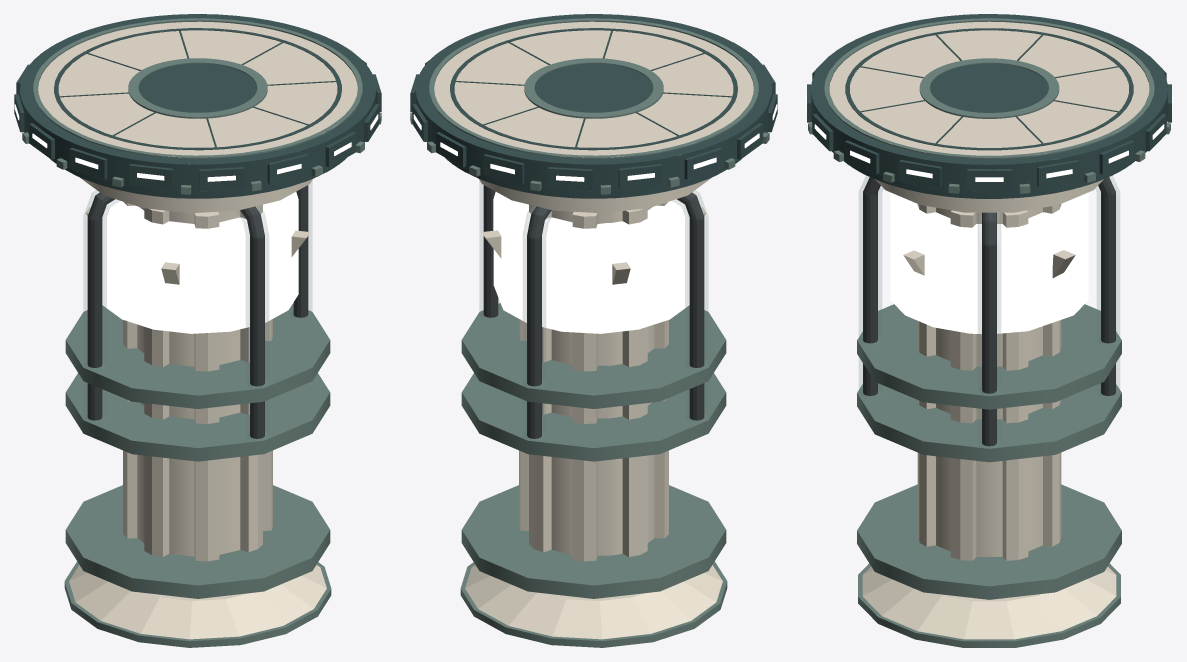
Rendered from Platform_Pillar_D18_lab.glb.
The picture shows the model from 3 angles, left to right: view 1: azimuth 30°, elevation 25°; view 2: azimuth 150°, elevation 25°; view 3: azimuth 270°, elevation 25°; orthographic projection.
Parts seen in each view (by area): view 1: Platform_Pillar_D18; view 2: Platform_Pillar_D18; view 3: Platform_Pillar_D18.
Part boxes in pixels (bbox=[...]): Platform_Pillar_D18: bbox=[14, 14, 381, 647]; Platform_Pillar_D18: bbox=[410, 14, 777, 647]; Platform_Pillar_D18: bbox=[806, 14, 1172, 647].
Size of the model in its own units: 12.32 by 18.71 by 12.32.
